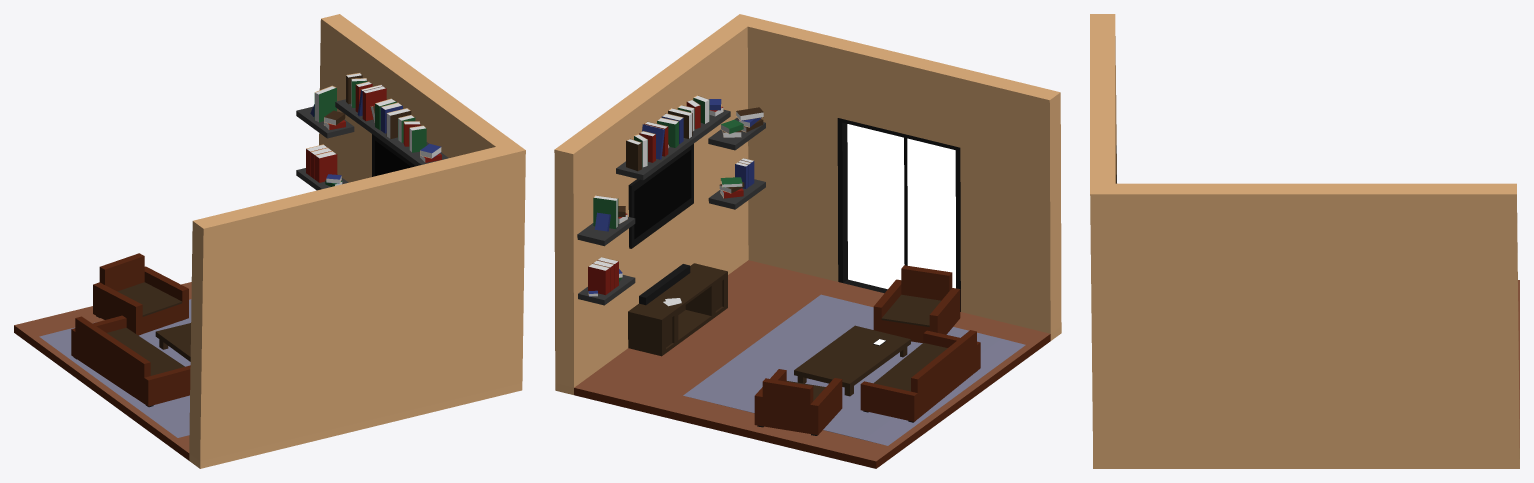
Rendered from isometric_low_poly_living_room.glb.
The picture shows the model from 3 angles, left to right: view 1: azimuth 30°, elevation 25°; view 2: azimuth 150°, elevation 25°; view 3: azimuth 270°, elevation 25°; orthographic projection. The views are drawn at different scales.
Visible parts, largest first — view 1: Cube; view 2: Cube; view 3: Cube.
Part boxes in pixels (box(x1,y1,x2,y2)): Cube: box(14, 14, 525, 468); Cube: box(554, 14, 1061, 468); Cube: box(1090, 14, 1519, 468).
Size of the model in its own units: 1711 by 1213 by 1712.
